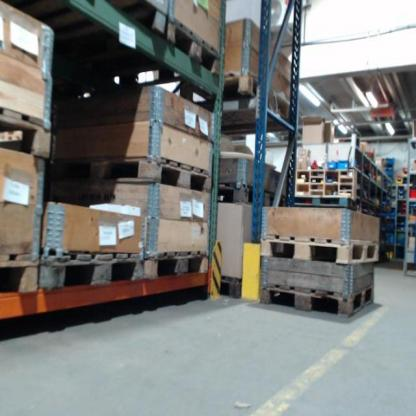pallet: (52, 151, 212, 190), (224, 71, 304, 130), (263, 279, 372, 322), (52, 0, 163, 39), (39, 248, 143, 286), (260, 235, 381, 265), (167, 14, 221, 73), (1, 106, 52, 161), (145, 247, 211, 279), (1, 249, 40, 299), (219, 184, 273, 207)
